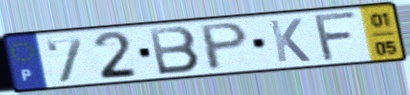2: (91, 29, 140, 81)
7: (43, 34, 85, 85)
B: (146, 24, 203, 77)
F: (313, 9, 361, 64)
K: (266, 16, 313, 64)
P: (199, 21, 252, 73)
